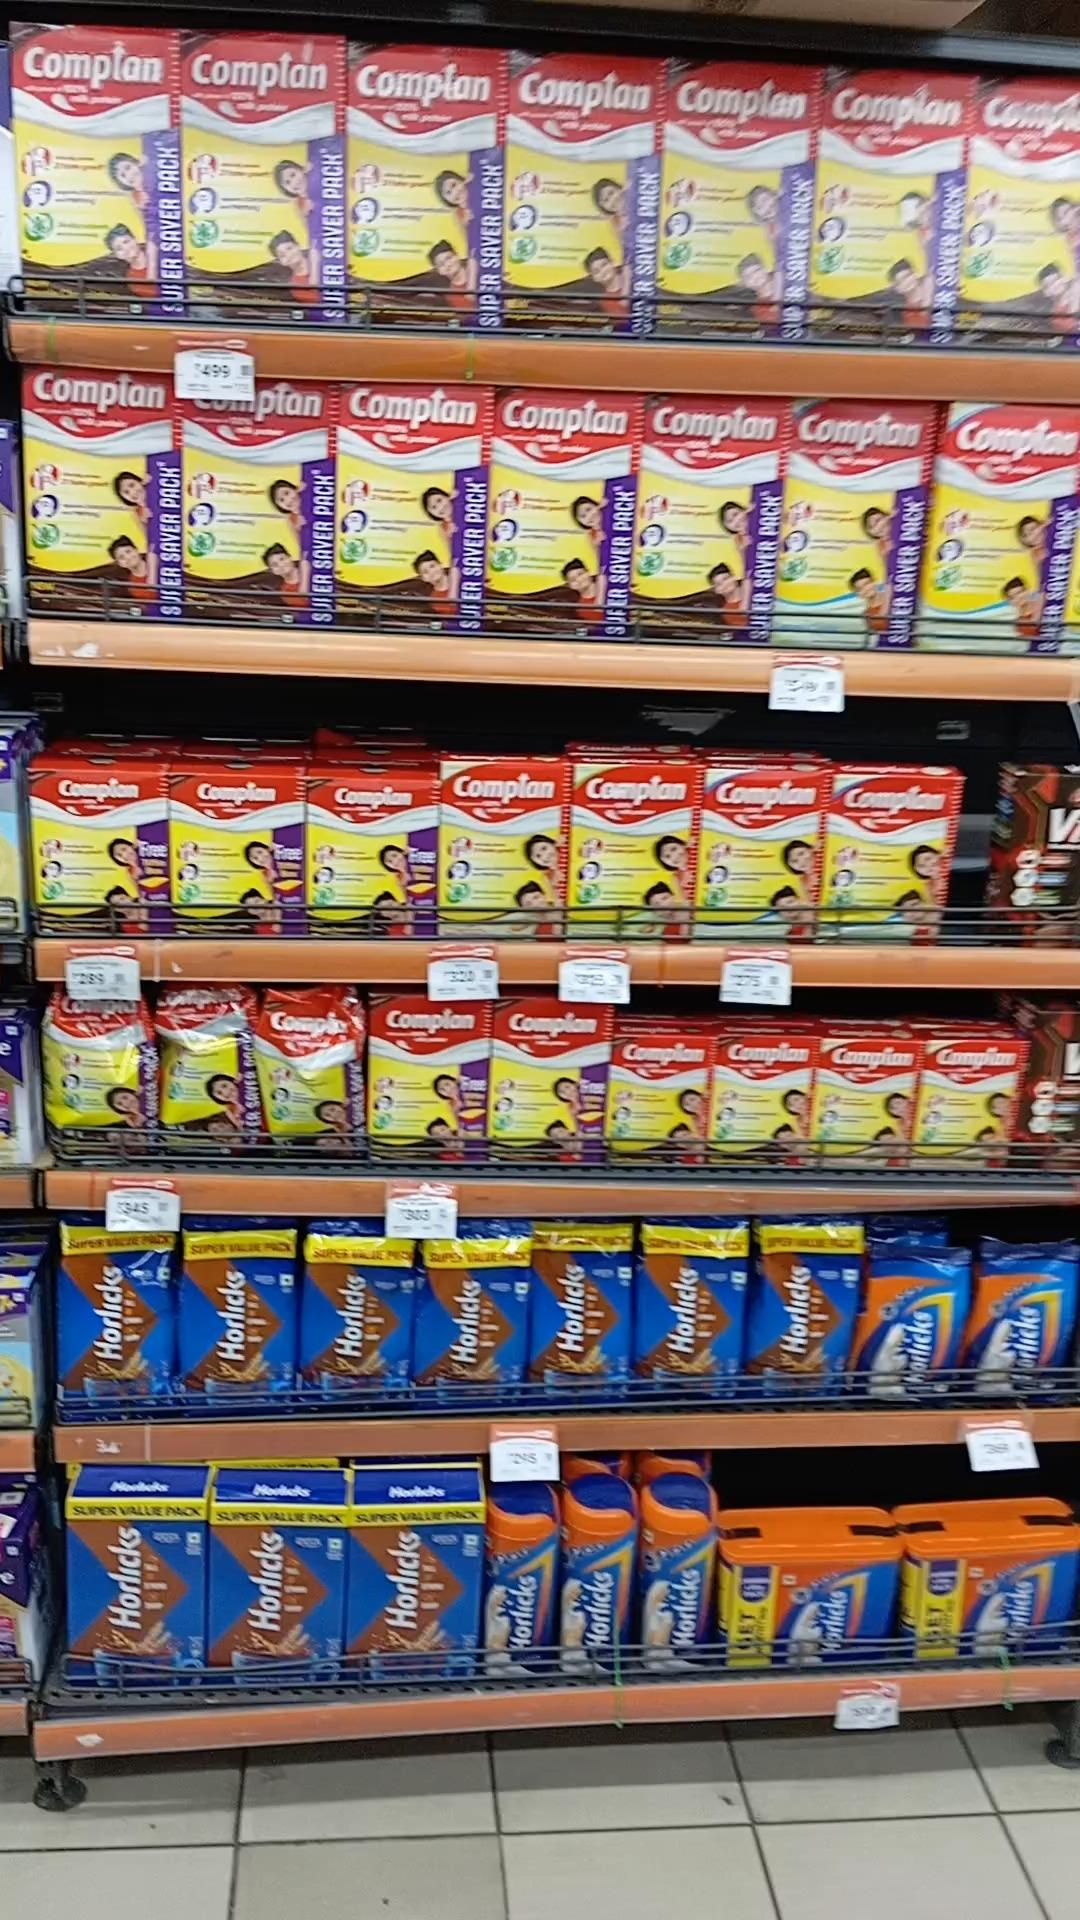COMPLAN_CHOCOLATE_1_KG_PACK: (4, 22, 179, 318), (185, 36, 345, 323), (349, 41, 502, 334), (667, 57, 812, 345), (509, 57, 657, 339), (819, 73, 957, 347), (338, 378, 480, 633), (26, 363, 166, 621), (185, 382, 331, 626), (637, 390, 774, 649), (495, 390, 628, 645), (967, 76, 1080, 353), (367, 994, 484, 1163), (489, 996, 603, 1170)
COMPLAN_CHOCOLATE_500_GMS_PACK: (26, 766, 170, 935), (169, 773, 299, 935), (307, 779, 436, 938), (716, 1038, 810, 1174), (612, 1042, 709, 1171)
COMPLAN_CREAMY_CLASSIC_500_G_PACK: (702, 770, 825, 948), (828, 773, 953, 947)
COMPLAN_KESAR_BADAM_500_GMS_PACK: (443, 762, 566, 945), (814, 1038, 913, 1168), (922, 1038, 1015, 1170)
COMPLAN_PISTA_BADAM_500_GMS_PACK: (574, 762, 692, 947)
COMPLAN_RC_POUCH_700_GMS_12: (45, 997, 149, 1163), (258, 984, 357, 1158), (157, 986, 249, 1167)
HORLICK_CHOCOLATE_1_KG_PACK: (67, 1502, 202, 1695), (348, 1502, 480, 1692), (214, 1505, 344, 1691)
HORLICK_CHOCOLATE_750_G_POUCH: (57, 1221, 173, 1423), (182, 1228, 298, 1420), (754, 1212, 861, 1412), (302, 1220, 411, 1412), (419, 1226, 527, 1410), (641, 1220, 745, 1408), (534, 1221, 633, 1412)
HORLICK_CLASSIC_MALT_750_G_POUCH: (972, 1240, 1080, 1410), (865, 1244, 967, 1410)
HORLICK_MALT_1_KG_CONTAINER: (911, 1538, 1080, 1668), (727, 1559, 899, 1673)
